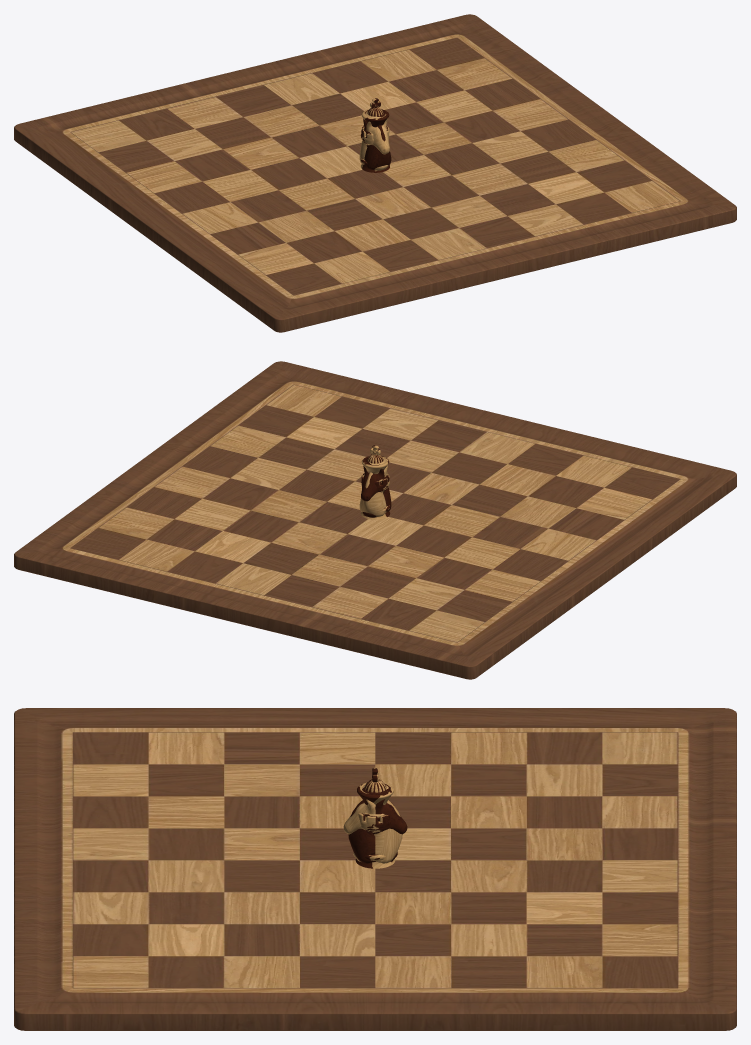
The model's file is chess-set-wood-v1-2k.glb.
3 views of the same model, one above another, from view 1: azimuth 30°, elevation 25°; view 2: azimuth 150°, elevation 25°; view 3: azimuth 270°, elevation 25° (orthographic). The views are drawn at different scales.
Parts seen in each view (by area): view 1: board, piece_knight_white, piece_knight_black; view 2: board, piece_knight_black, piece_knight_white; view 3: board, piece_knight_white, piece_knight_black, piece_queen_white, piece_queen_black.
Boxes of the visible parts, bbox=[...] form: board: bbox=[14, 14, 736, 332]; piece_knight_white: bbox=[359, 118, 389, 170]; piece_knight_black: bbox=[360, 118, 391, 169]; board: bbox=[14, 361, 736, 679]; piece_knight_black: bbox=[361, 466, 391, 517]; piece_knight_white: bbox=[359, 465, 389, 516]; board: bbox=[14, 708, 736, 1030]; piece_knight_white: bbox=[343, 799, 402, 863]; piece_knight_black: bbox=[348, 799, 407, 863]; piece_queen_white: bbox=[359, 775, 395, 868]; piece_queen_black: bbox=[355, 775, 392, 868].
Bounding box in the file's own units: 0.5532 × 0.0953 × 0.5532.
Materials: 3 (3 with a texture image).
